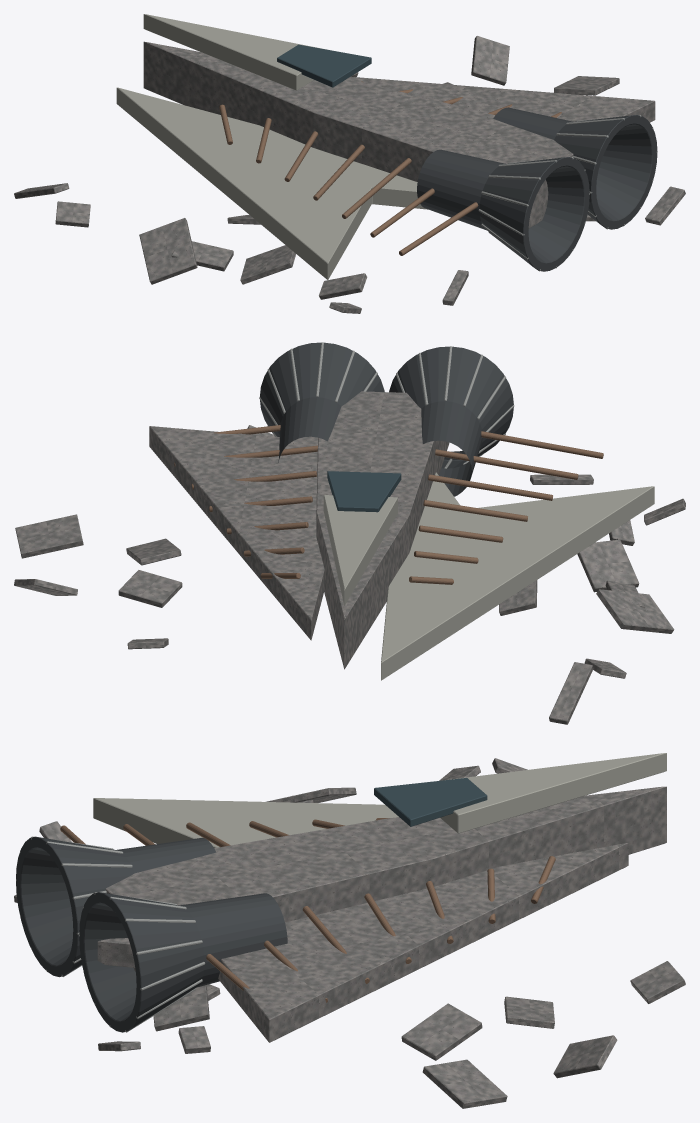
Rendered from crashed-ship.glb.
3 renders of one model, top to bottom at view 1: azimuth 30°, elevation 25°; view 2: azimuth 150°, elevation 25°; view 3: azimuth 270°, elevation 25°, orthographic. The views are drawn at different scales.
Visible parts, largest first — view 1: Broken spaceplane • editable solid geometry; view 2: Broken spaceplane • editable solid geometry; view 3: Broken spaceplane • editable solid geometry.
Part boxes in pixels (bbox=[...]): Broken spaceplane • editable solid geometry: bbox=[14, 14, 685, 313]; Broken spaceplane • editable solid geometry: bbox=[14, 342, 685, 724]; Broken spaceplane • editable solid geometry: bbox=[14, 753, 685, 1108].
Bounding box in the file's own units: 7.51 × 1.57 × 6.37.
6 materials, 1 textured.
